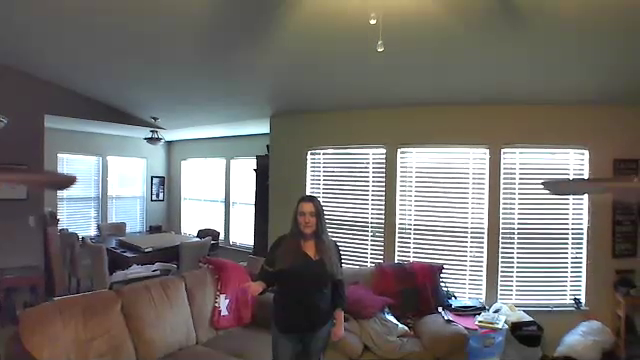land: (236, 277, 269, 301)
